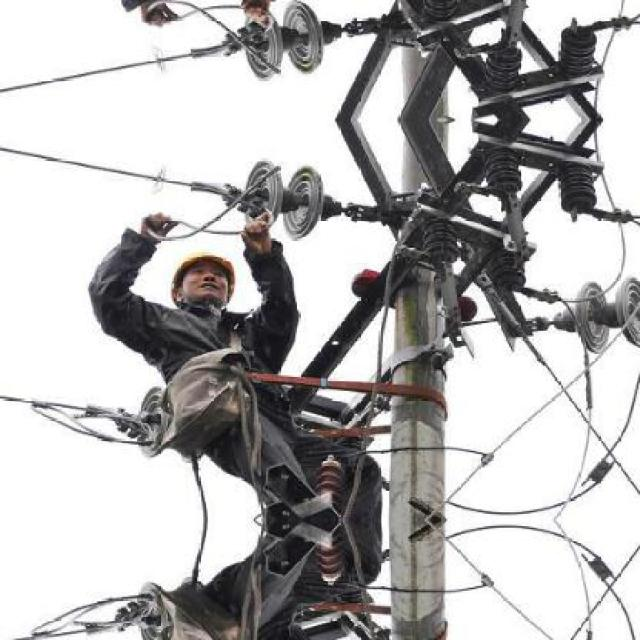helmet: (165, 235, 241, 313)
